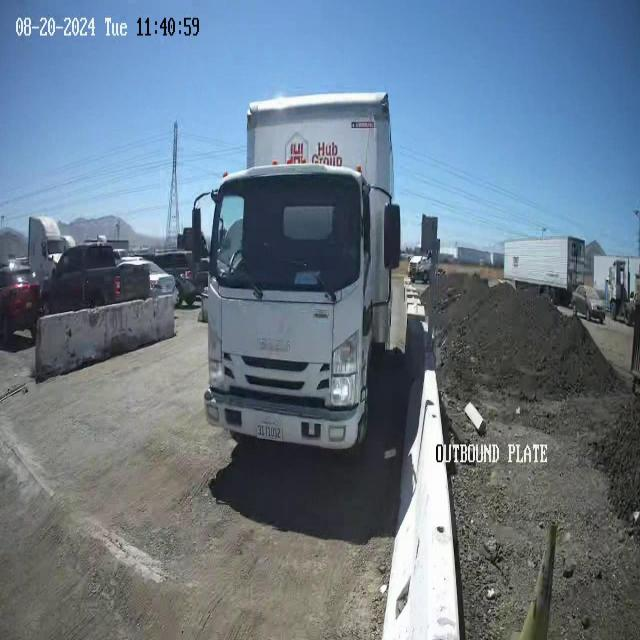TRUCK_CONTAINER: (191, 91, 402, 492)
